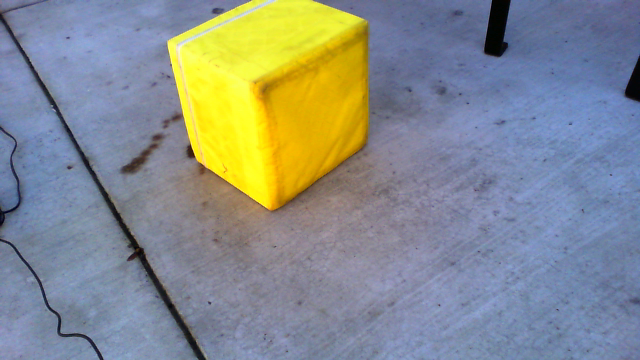cube: (165, 1, 371, 213)
